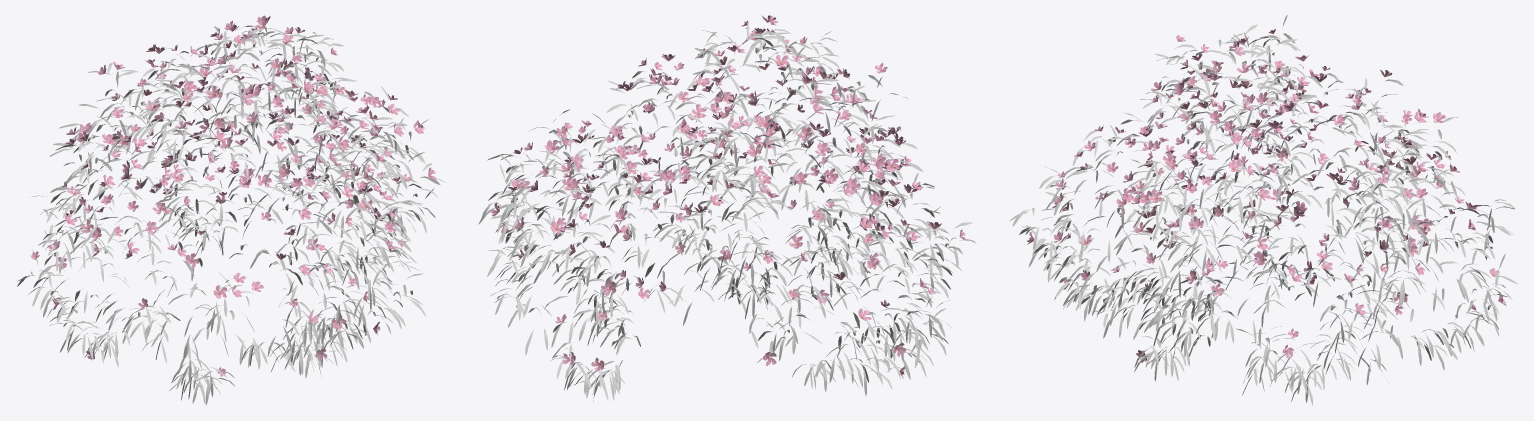
Rendered from MESH_BS09_NeriumOleander_M_LOD2.fbx.
3 renders of one model, left to right at view 1: azimuth 30°, elevation 25°; view 2: azimuth 150°, elevation 25°; view 3: azimuth 270°, elevation 25°, orthographic. The views are drawn at different scales.
Visible parts, largest first — view 1: MI_LOD2_001, MI_LOD2_002; view 2: MI_LOD2_001, MI_LOD2_002; view 3: MI_LOD2_001, MI_LOD2_002.
Part boxes in pixels (x1,y1,x2,y2): MI_LOD2_001: (16, 18, 444, 405); MI_LOD2_002: (30, 15, 436, 376); MI_LOD2_001: (478, 21, 976, 400); MI_LOD2_002: (491, 15, 966, 378); MI_LOD2_001: (1009, 15, 1517, 405); MI_LOD2_002: (1027, 29, 1506, 362).
Size of what is drawn, in the model's own units: 299 by 225 by 329.
